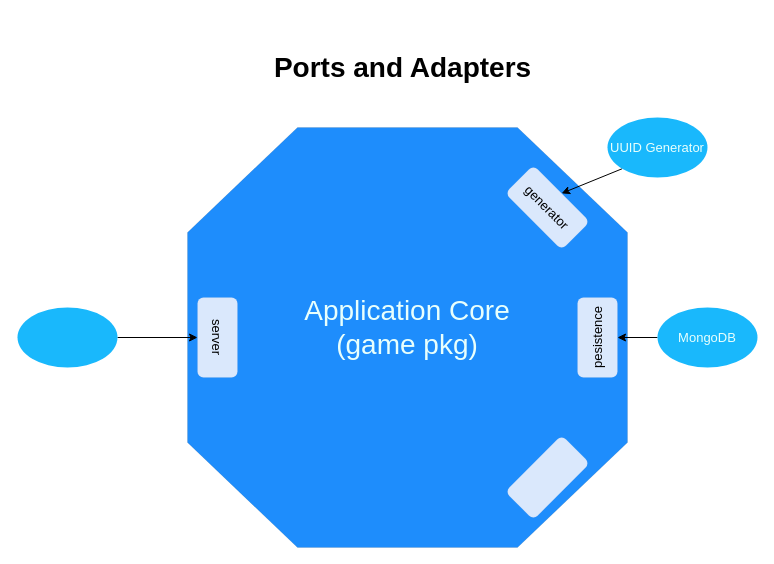
This 774x564 diagram has some shape labels left out. Each missing label, with the centre of its shape:
"config" belongs at pixel 547 477.
"REST HTTP Server" belongs at pixel 67 337.
